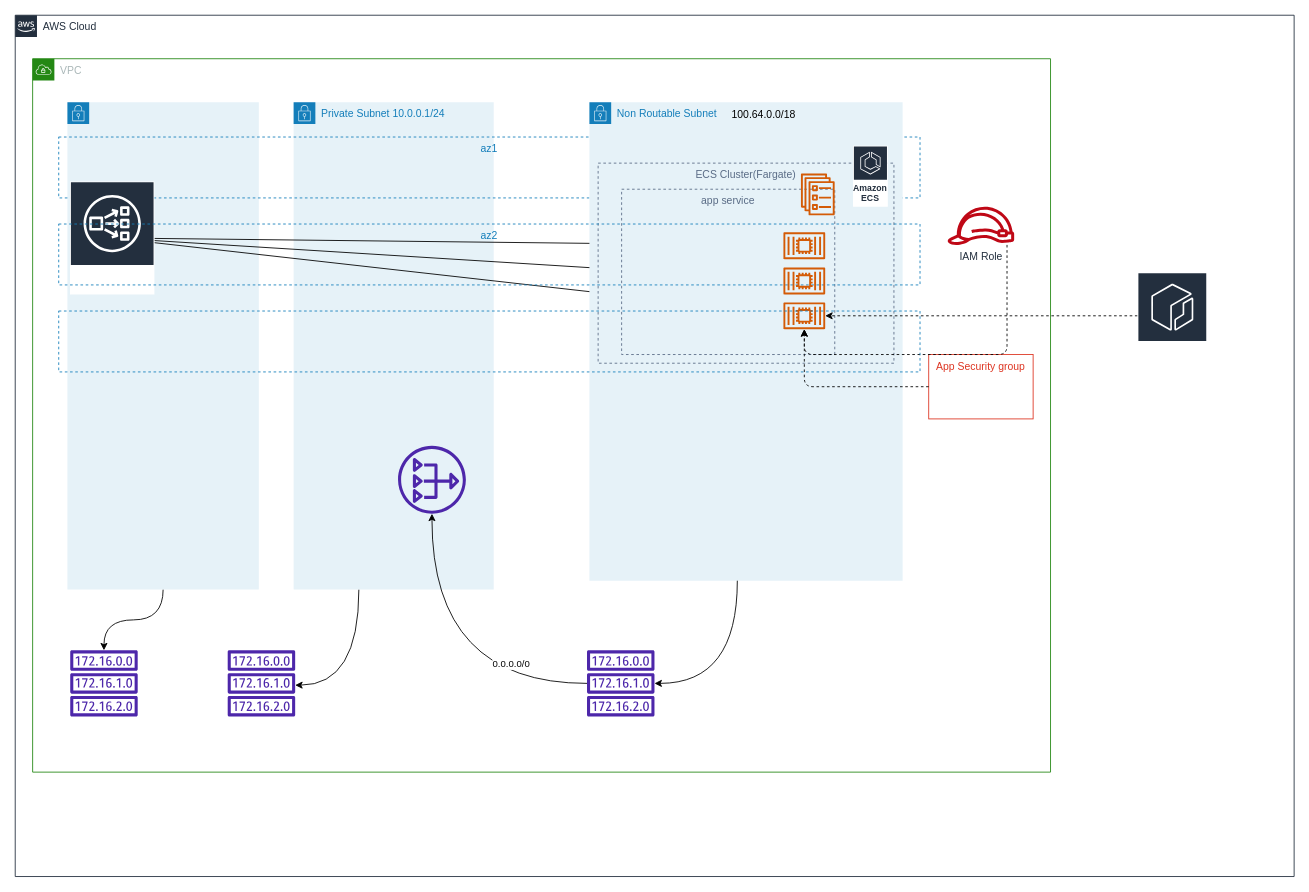
The diagram is 1309 pixels wide and 892 high, and some of its shapes have lost their labels. The shapes that lost their labels are listed below. From the top down, each one's centre as x and y in pixels, then its label:
At point 111,237: "Network Load Balancer".
At point 804,315: "containers".
At point 1172,315: "Amazon ECR".
At point 163,345: "Public Subnet 10.0.0.0/24".
At point 489,341: "az3".
At point 431,479: "Private Nat Gateway".
